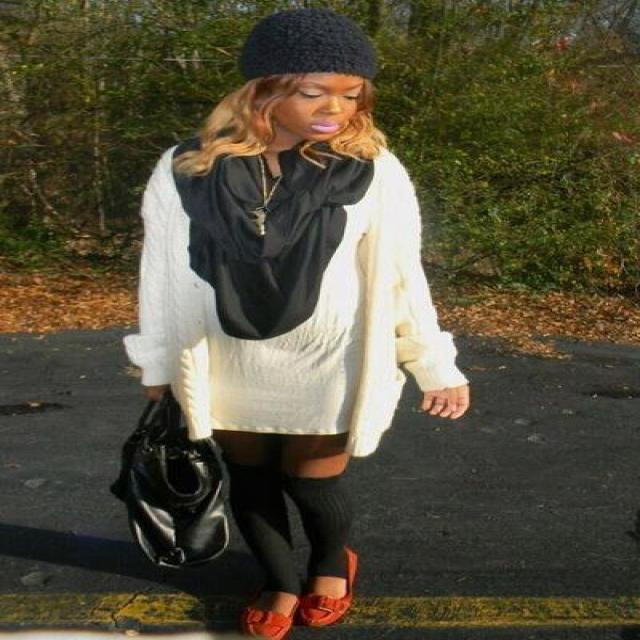bag: (90, 385, 235, 594)
hat: (232, 0, 382, 89)
jacket: (123, 147, 467, 456)
shoe: (220, 577, 350, 639)
skirt: (261, 166, 280, 204)
